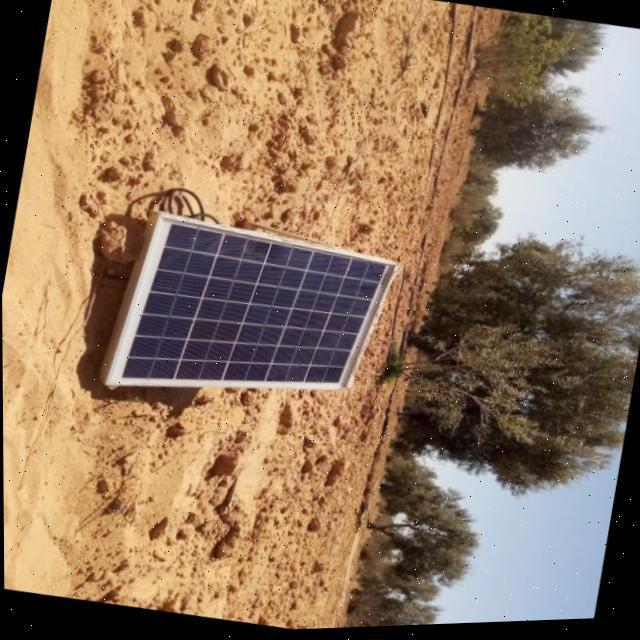Normal Solar Panel: (107, 203, 400, 429)
